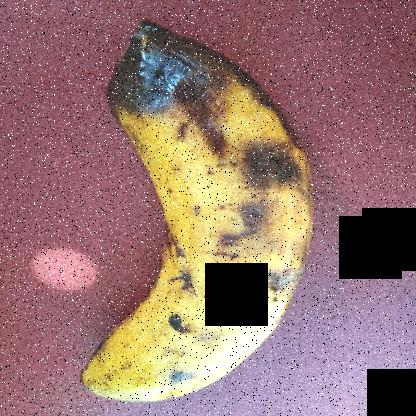overripe: (69, 144, 344, 402)
rotten: (29, 0, 322, 216)
